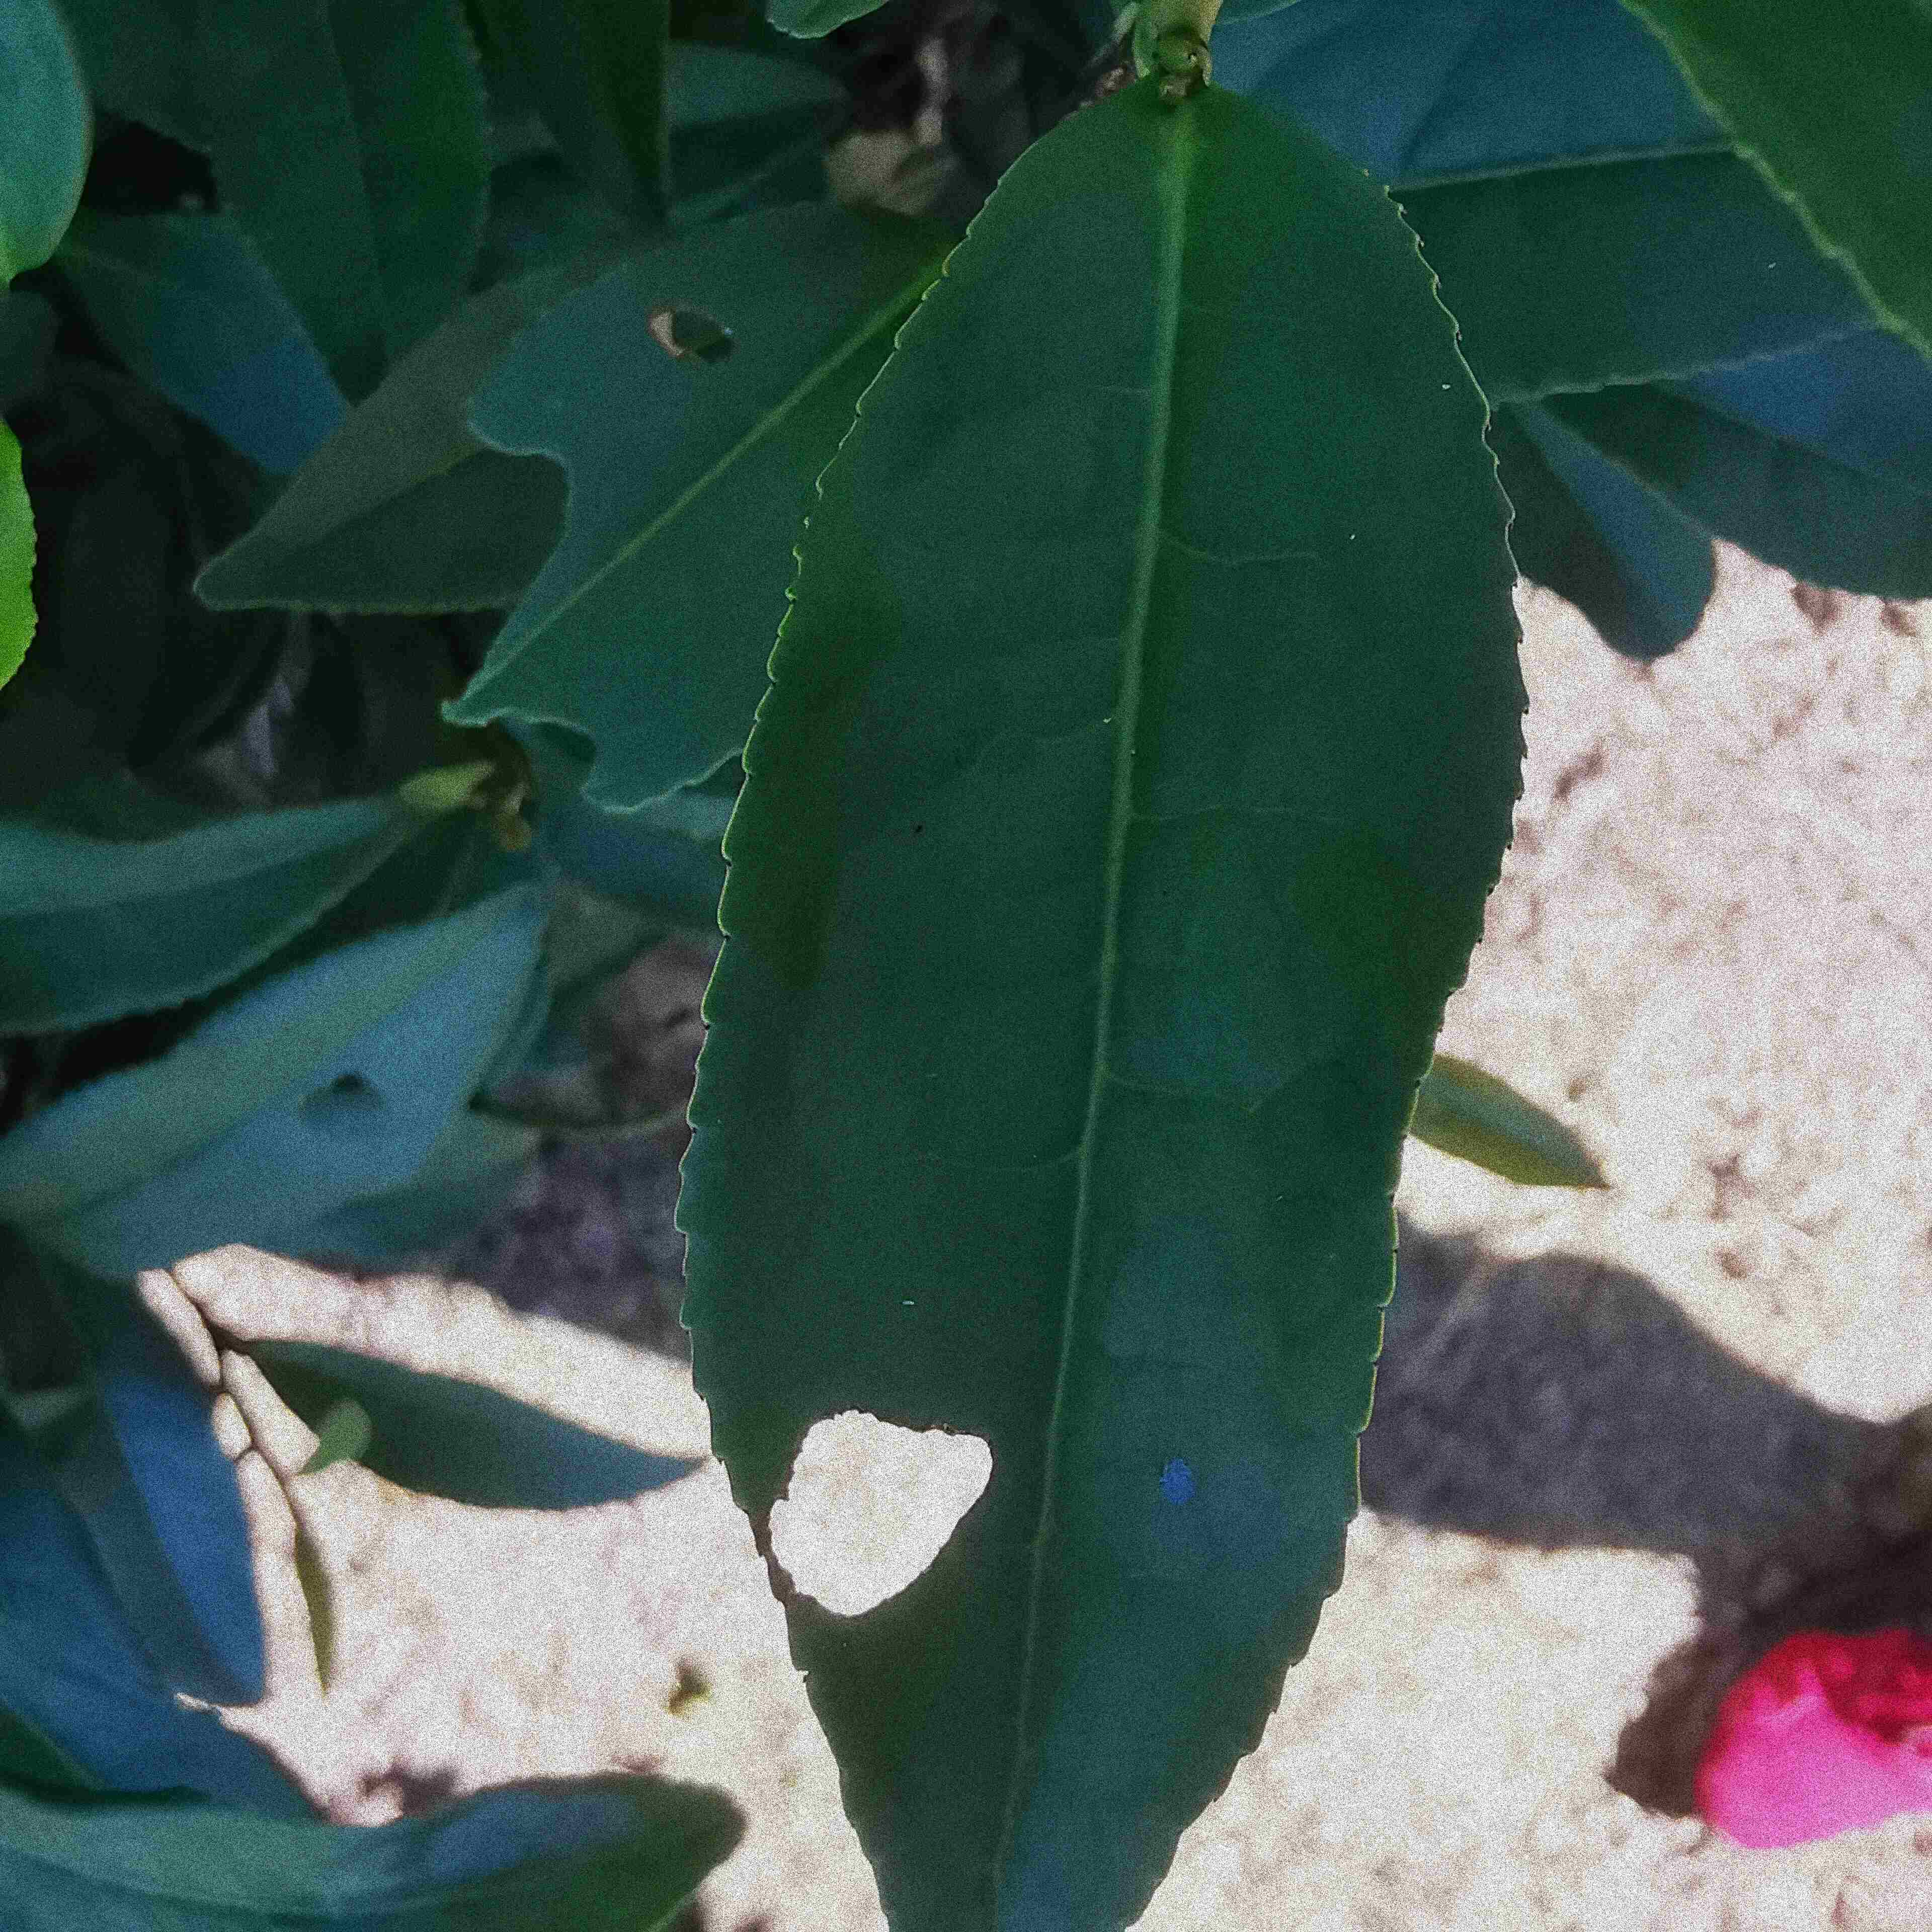chihuo_high: (416, 202, 955, 817)
chihuo_low: (667, 87, 1536, 1928), (7, 885, 545, 1283)
